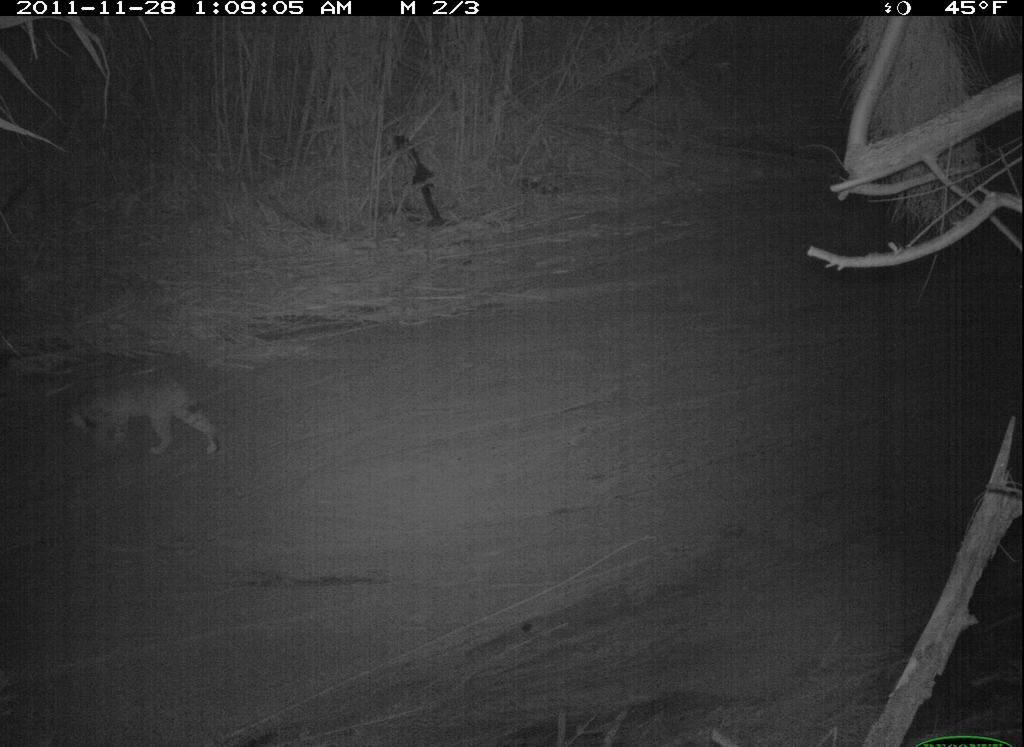bobcat: (61, 367, 232, 466)
